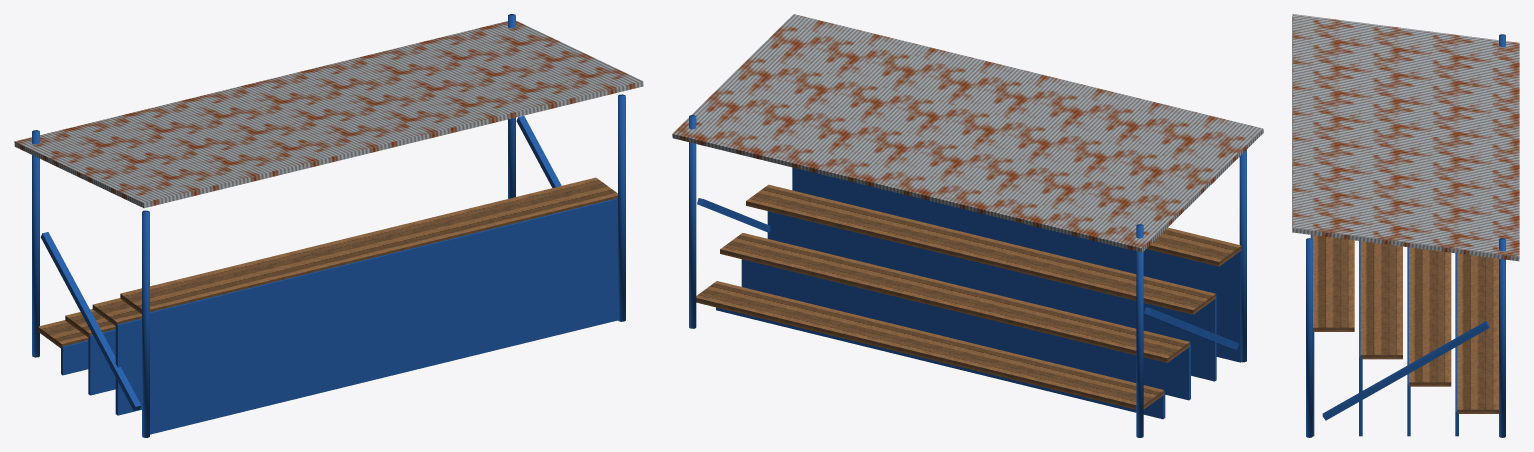
The model's file is Bleachers.fbx.
3 views of the same model, side by side, from view 1: azimuth 30°, elevation 25°; view 2: azimuth 150°, elevation 25°; view 3: azimuth 270°, elevation 25° (orthographic). The views are drawn at different scales.
Parts seen in each view (by area): view 1: Bleachers; view 2: Bleachers; view 3: Bleachers.
Part boxes in pixels (box(x1,y1,x2,y2)): Bleachers: box(14, 14, 643, 437); Bleachers: box(672, 14, 1263, 437); Bleachers: box(1292, 14, 1519, 437).
Size of the model in its own units: 8.4 by 3.9 by 3.77.
